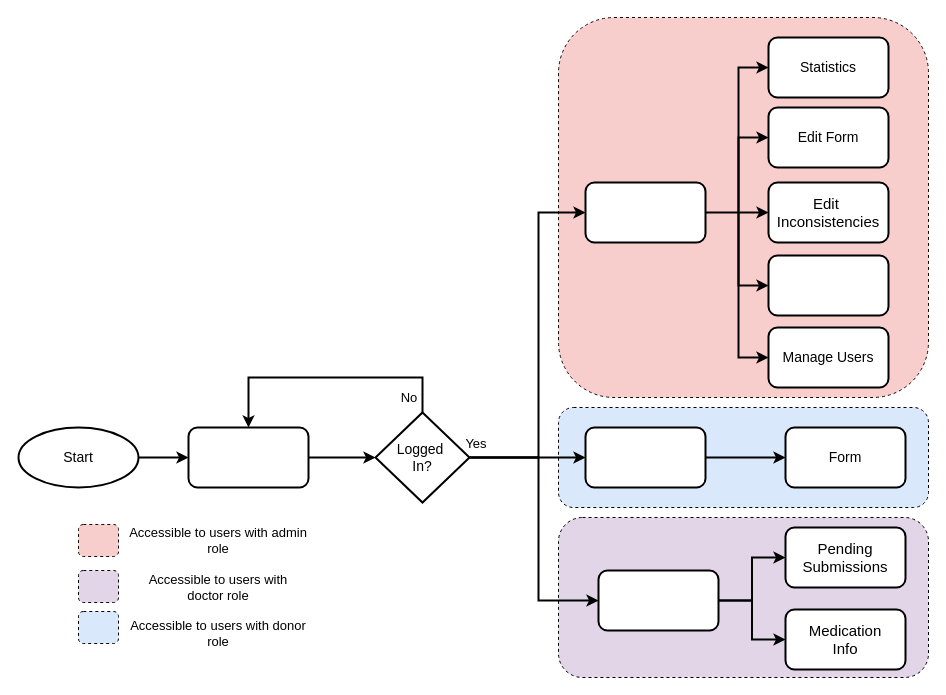
This 946x695 diagram has some shape labels left out. Each missing label, with the centre of its shape:
"Backoffice" goes at (x=645, y=212).
"Doctor Area" goes at (x=658, y=600).
"Edit Terms" goes at (x=828, y=285).
"Home" goes at (x=248, y=457).
"Terms" goes at (x=645, y=457).
